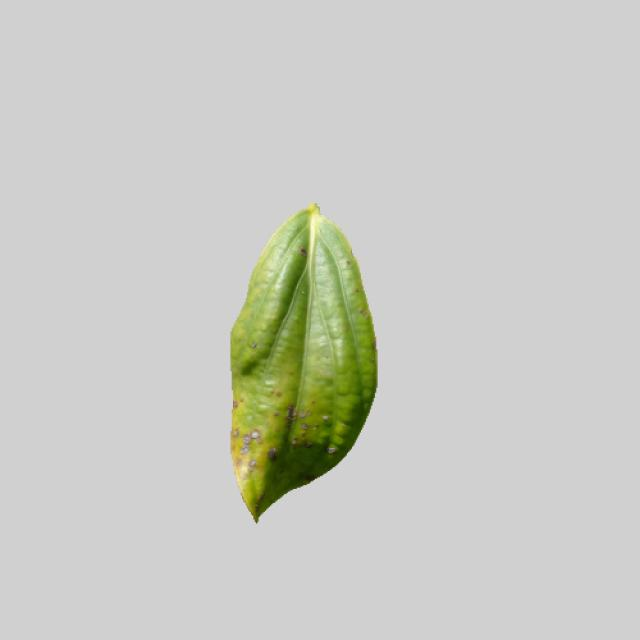yellow-mottle-virus: (216, 195, 382, 520)
